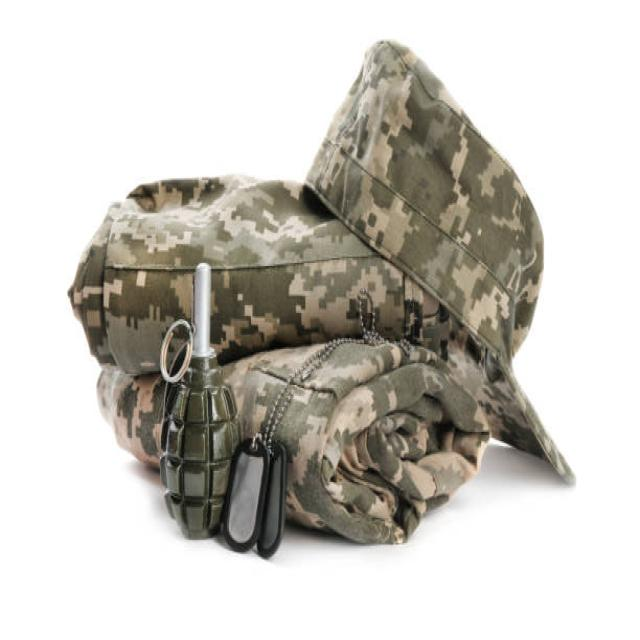grenade: (159, 257, 248, 540)
